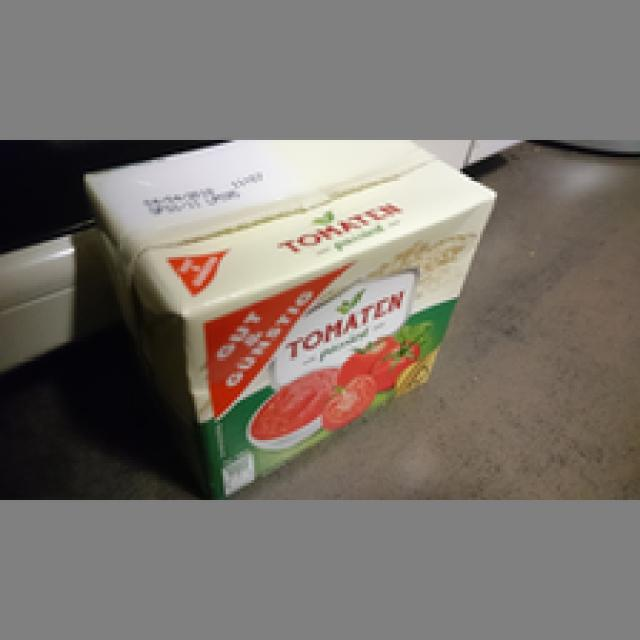groceries: (77, 137, 494, 494)
